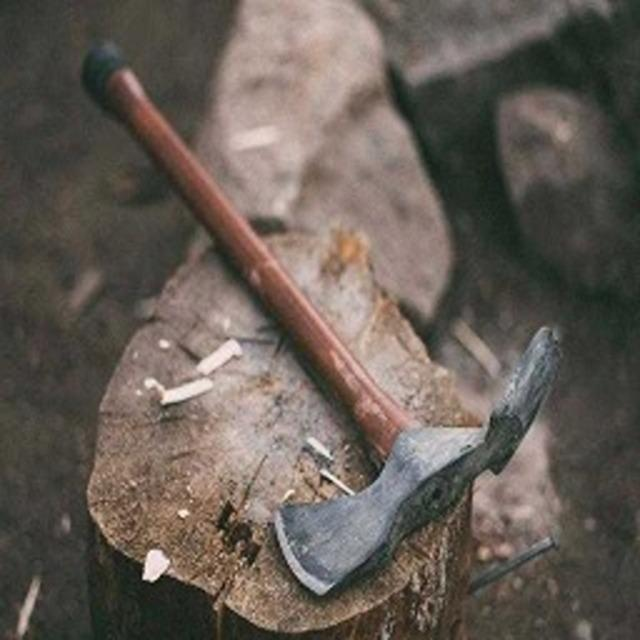ax: (67, 32, 570, 608)
